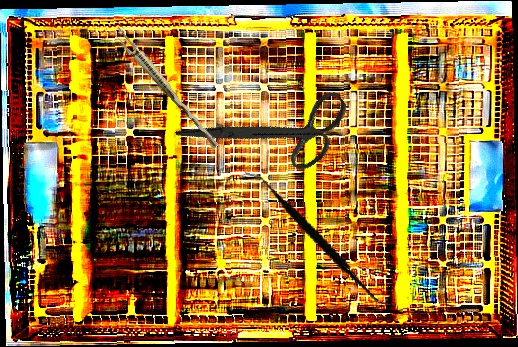Iris Scissors: (174, 42, 364, 220)
Spatula Surgical: (223, 171, 418, 307)
Tissue Forceps: (109, 25, 224, 151)
